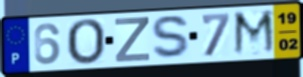6: (32, 22, 63, 66)
7: (199, 11, 232, 59)
M: (232, 8, 278, 58)
O: (64, 17, 107, 67)
S: (150, 14, 194, 62)
Z: (114, 16, 153, 64)
